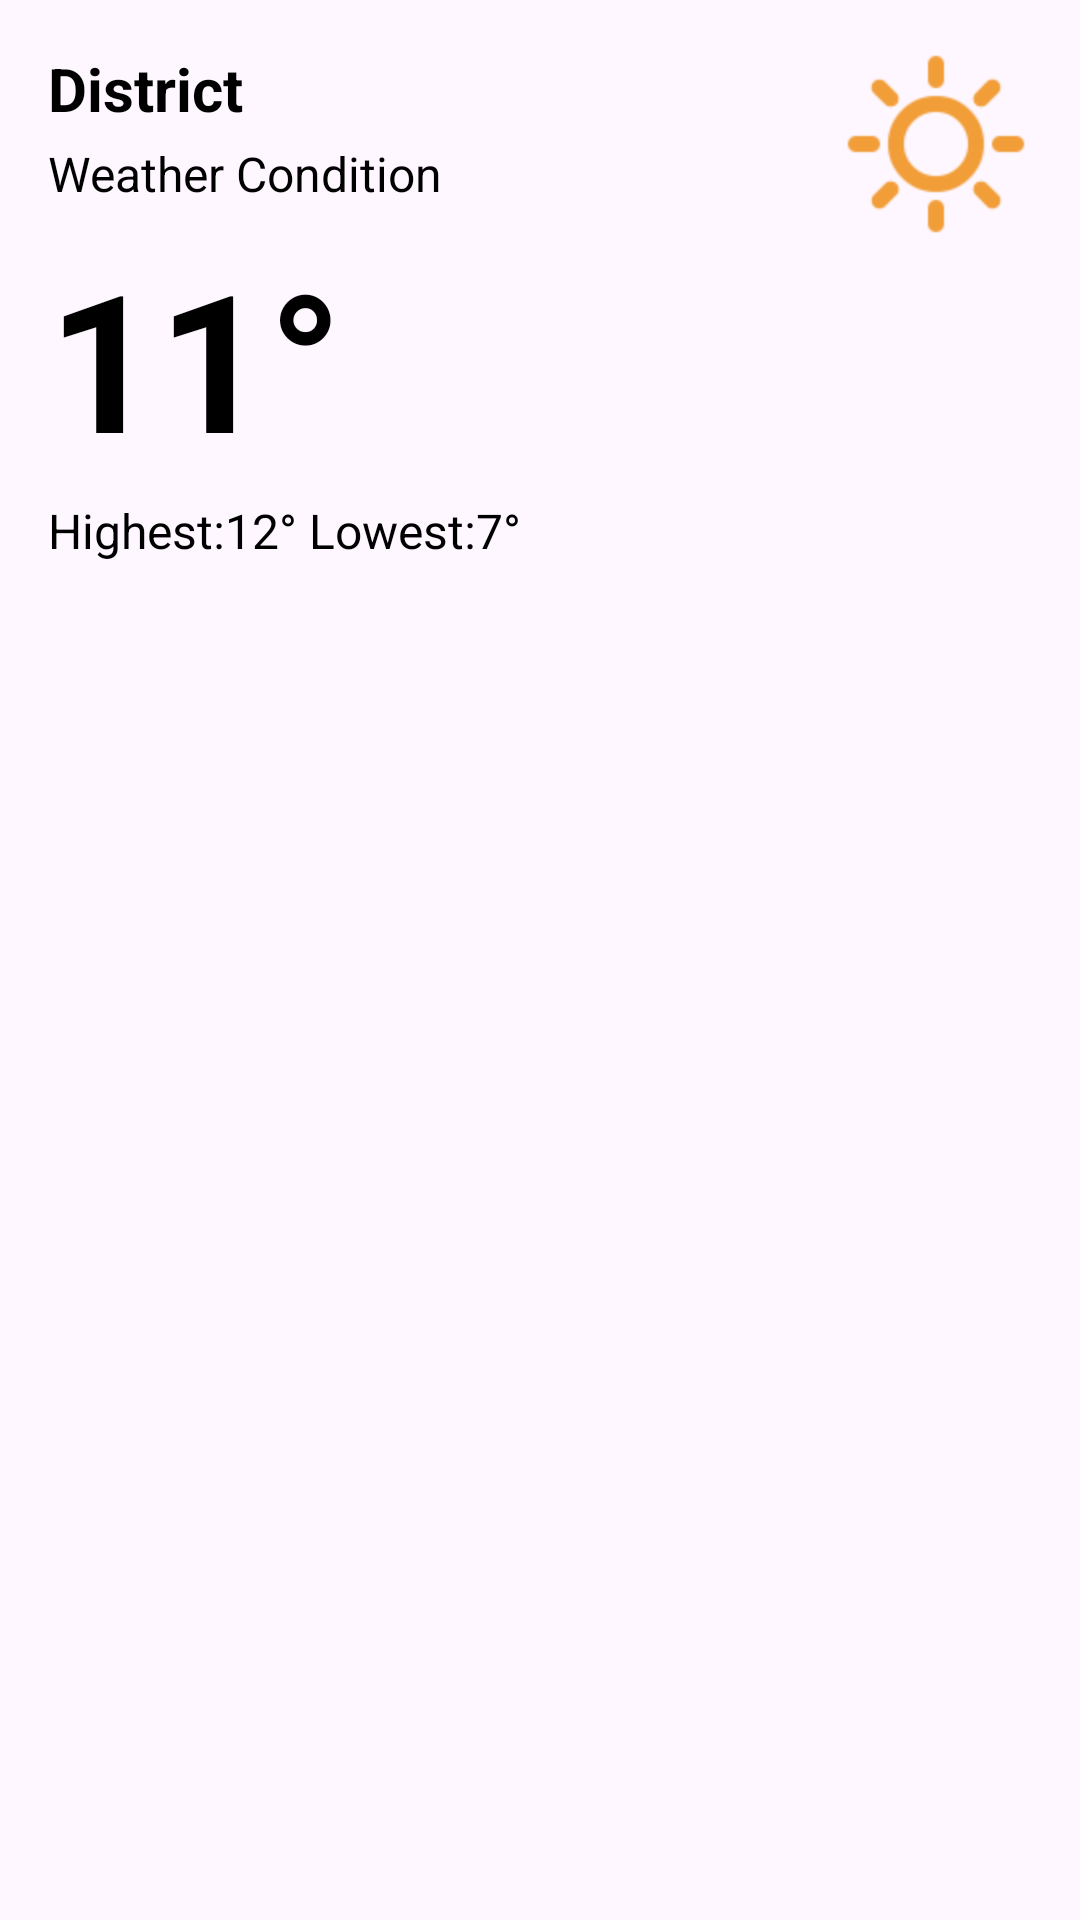

Point at icon controls on the screen. Image size 1080 x 1920, points as [x,y].
weather sunny: [936,144]
